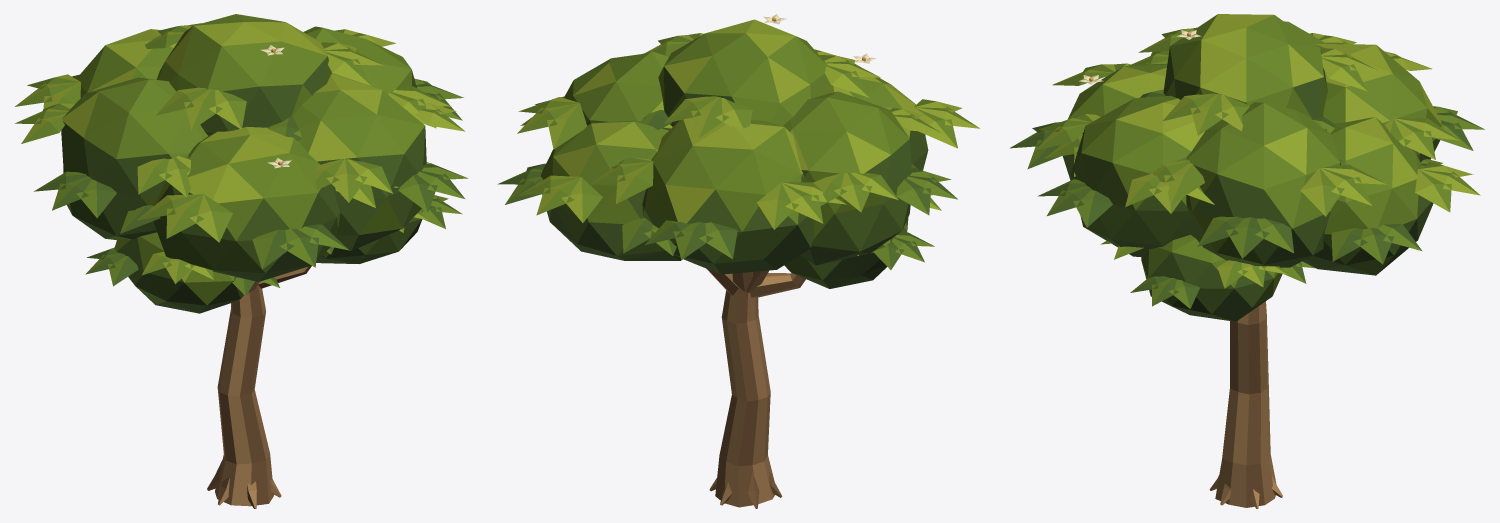
The model's file is tree_round_a.glb.
The picture shows the model from 3 angles, left to right: view 1: azimuth 30°, elevation 25°; view 2: azimuth 150°, elevation 25°; view 3: azimuth 270°, elevation 25°; orthographic projection. The views are drawn at different scales.
Visible parts, largest first — view 1: body; view 2: body; view 3: body.
Part boxes in pixels (x1=…): body: x1=15, y1=14, x2=468, y2=508; body: x1=497, y1=14, x2=979, y2=508; body: x1=1010, y1=14, x2=1484, y2=508.
Size of the model in its own units: 4.98 by 5.31 by 4.91.
